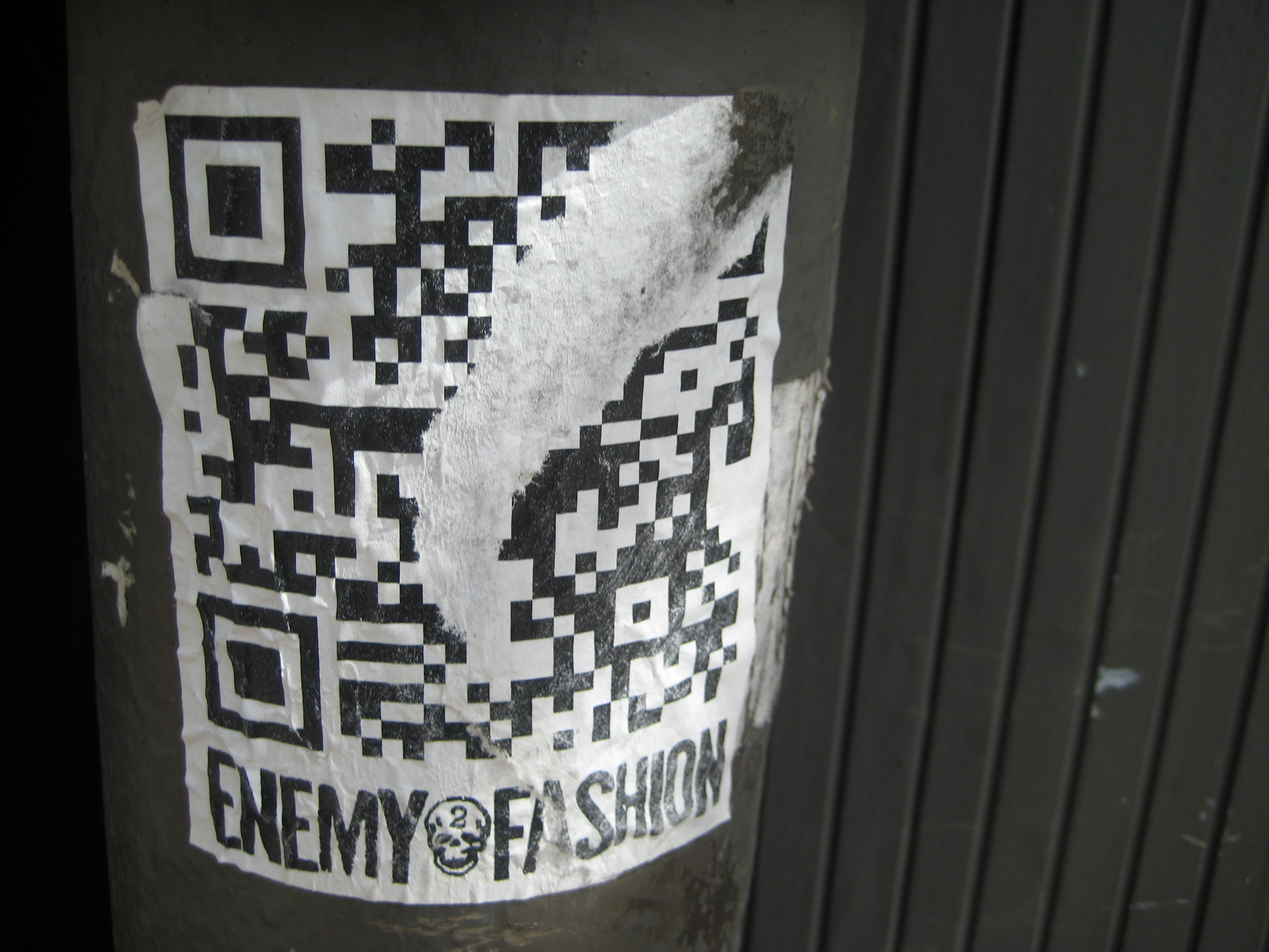QR-CODE: (164, 114, 778, 762)
